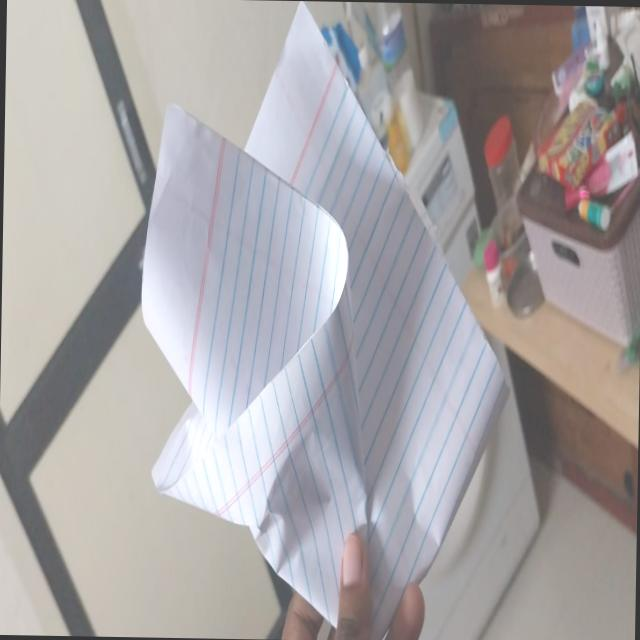Paper - Recyclable: (133, 0, 516, 640)
